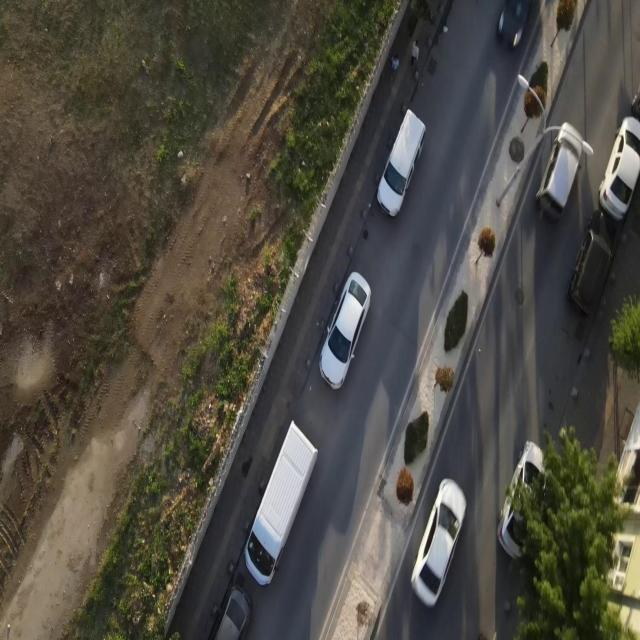p3rson: (390, 51, 400, 85), (410, 39, 420, 70)
